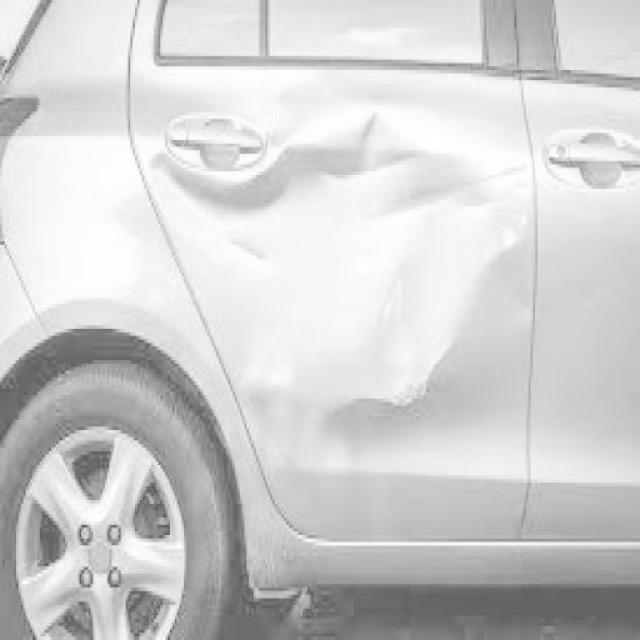car damage: (104, 82, 531, 439)
